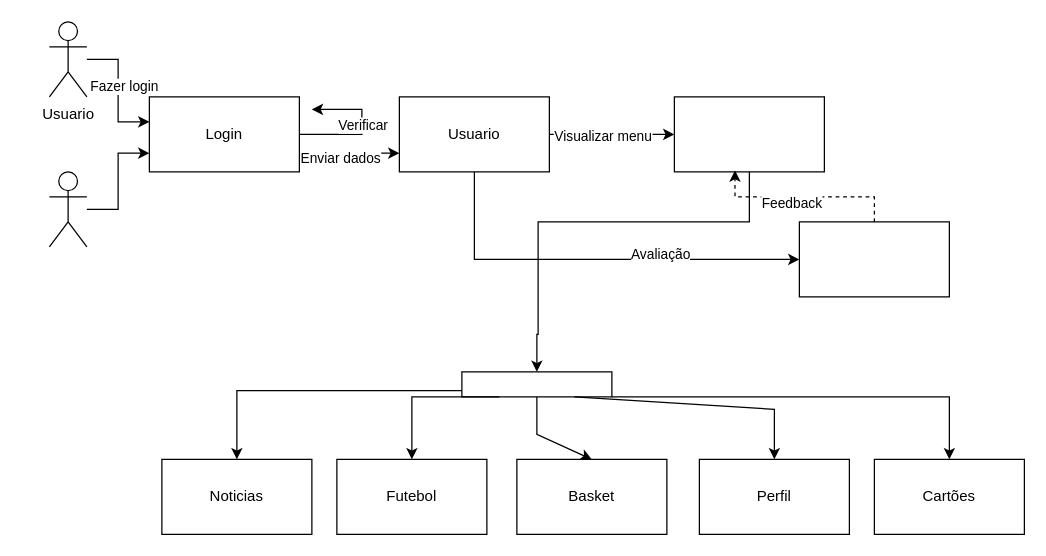
Image size: 1046x556. Some labels were removed from this diagram. Each missing label, with the centre of its shape:
4Lines: the point at 748,134
Administrador: the point at 67,209
Avaliar: the point at 873,259
